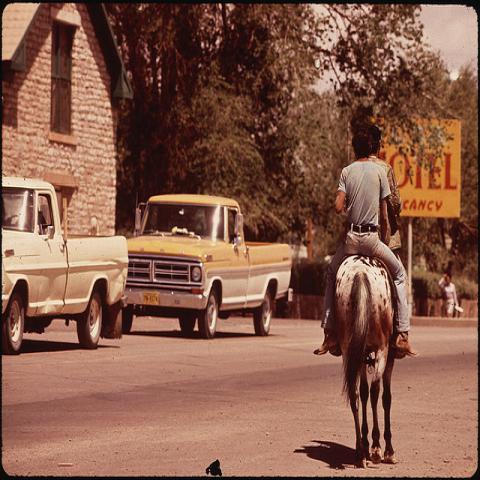truck: (121, 187, 298, 343), (2, 176, 129, 352)
